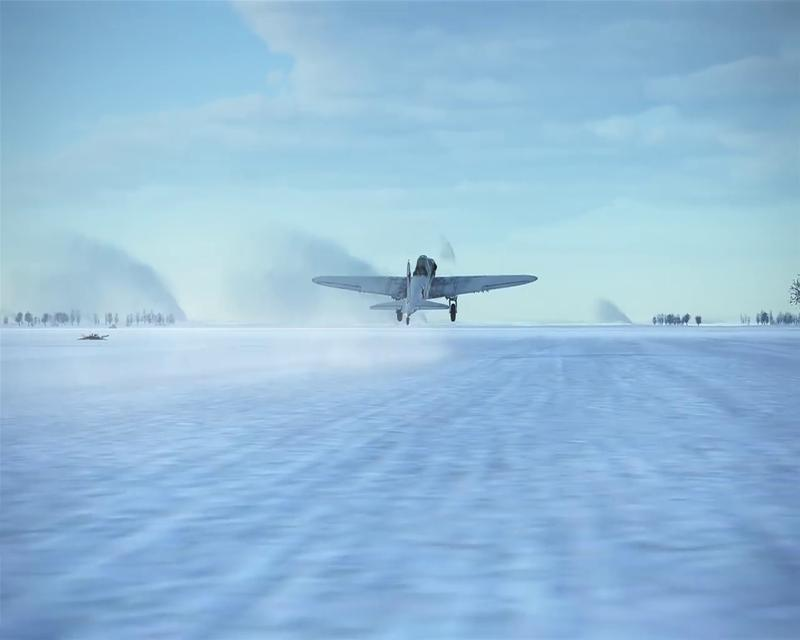UAV: (311, 254, 537, 326)
